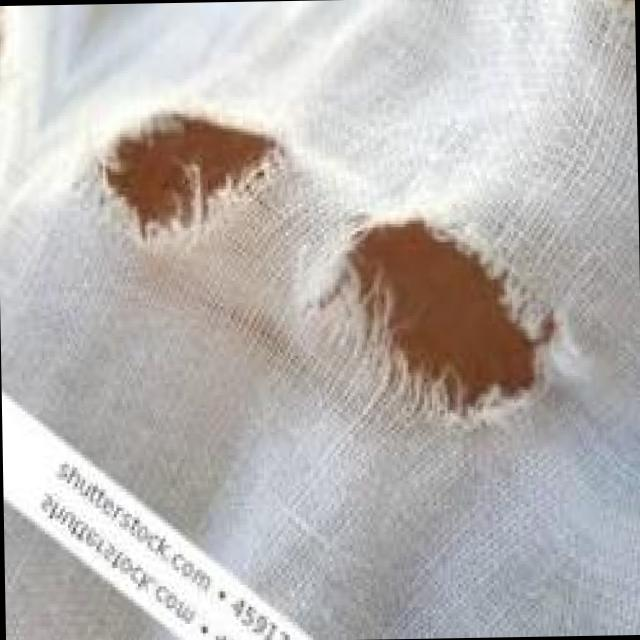cut: (338, 205, 562, 424), (91, 104, 288, 234)
